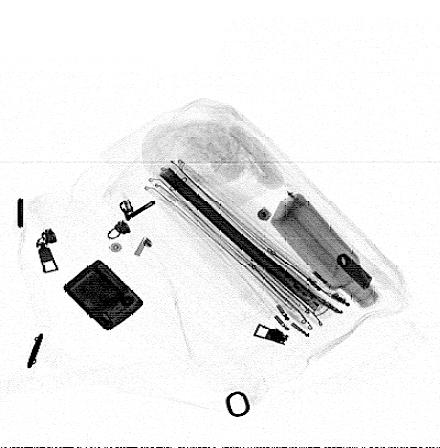Lighter: (63, 259, 144, 332)
